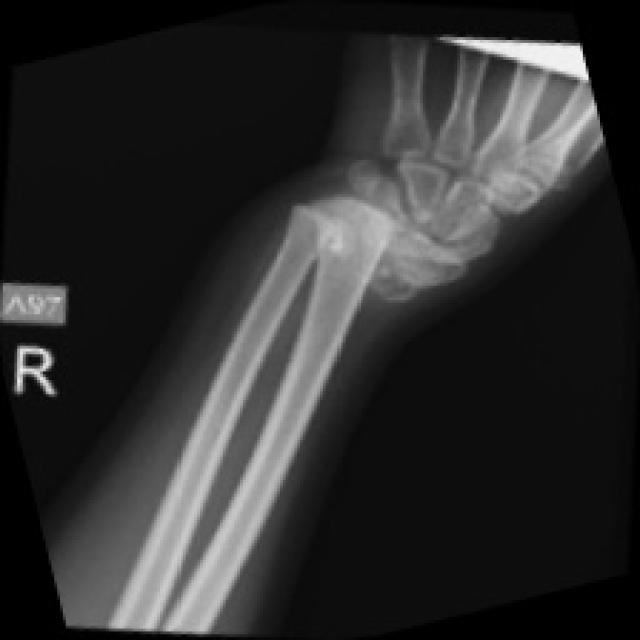fracture: (254, 119, 410, 271)
